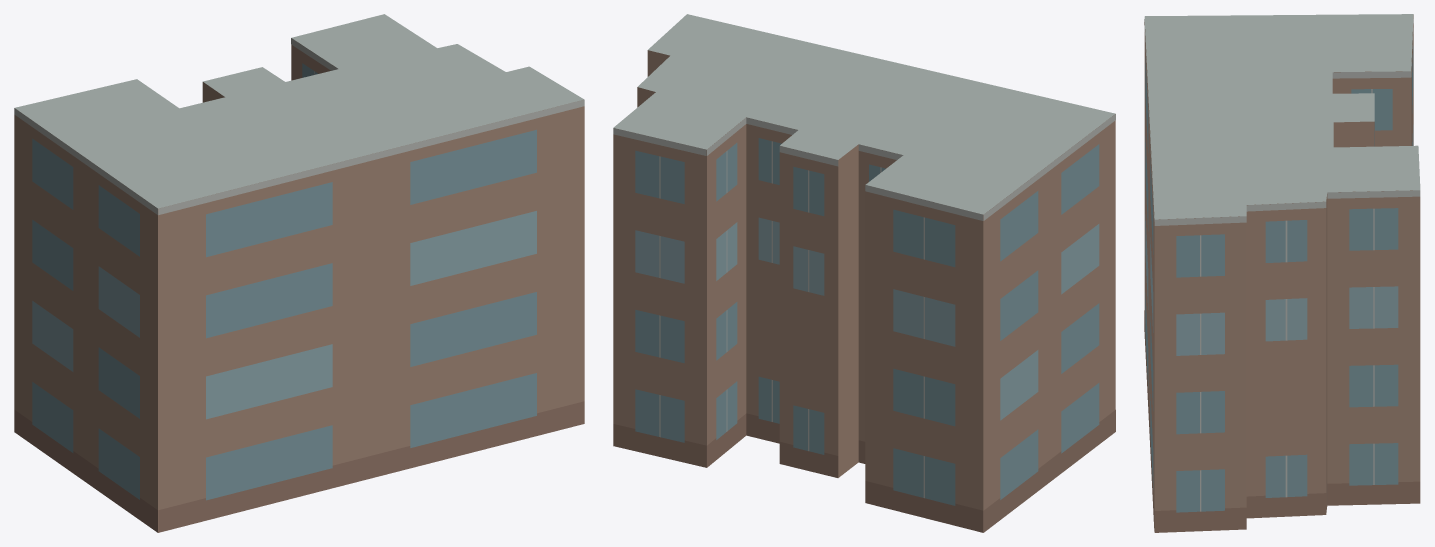
File: survey-upis-32538576.glb
The picture shows the model from 3 angles, left to right: view 1: azimuth 30°, elevation 25°; view 2: azimuth 150°, elevation 25°; view 3: azimuth 270°, elevation 25°; orthographic projection. The views are drawn at different scales.
Visible parts, largest first — view 1: survey-upis-32538576.tmp; view 2: survey-upis-32538576.tmp; view 3: survey-upis-32538576.tmp.
Part boxes in pixels (x1,y1,x2,y2): survey-upis-32538576.tmp: (14,14,584,532); survey-upis-32538576.tmp: (613,14,1115,532); survey-upis-32538576.tmp: (1144,14,1420,532).
Size of the model in its own units: 16.76 by 11.9 by 9.51.
